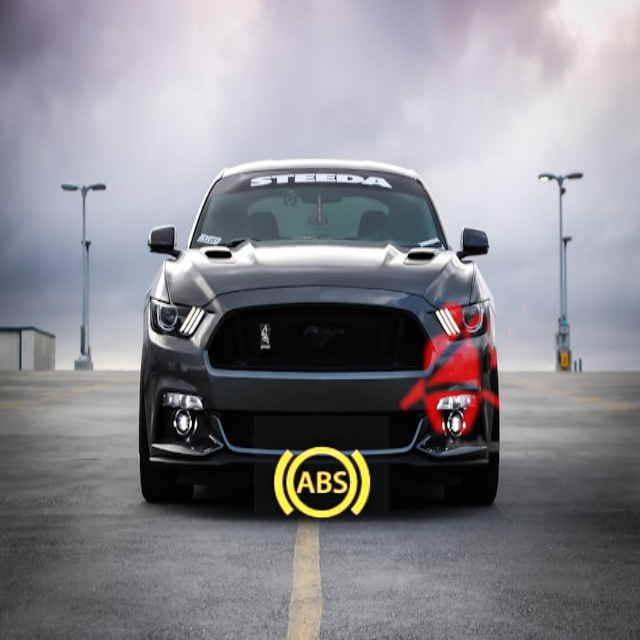symbol: (370, 267, 564, 461), (254, 416, 389, 551)
